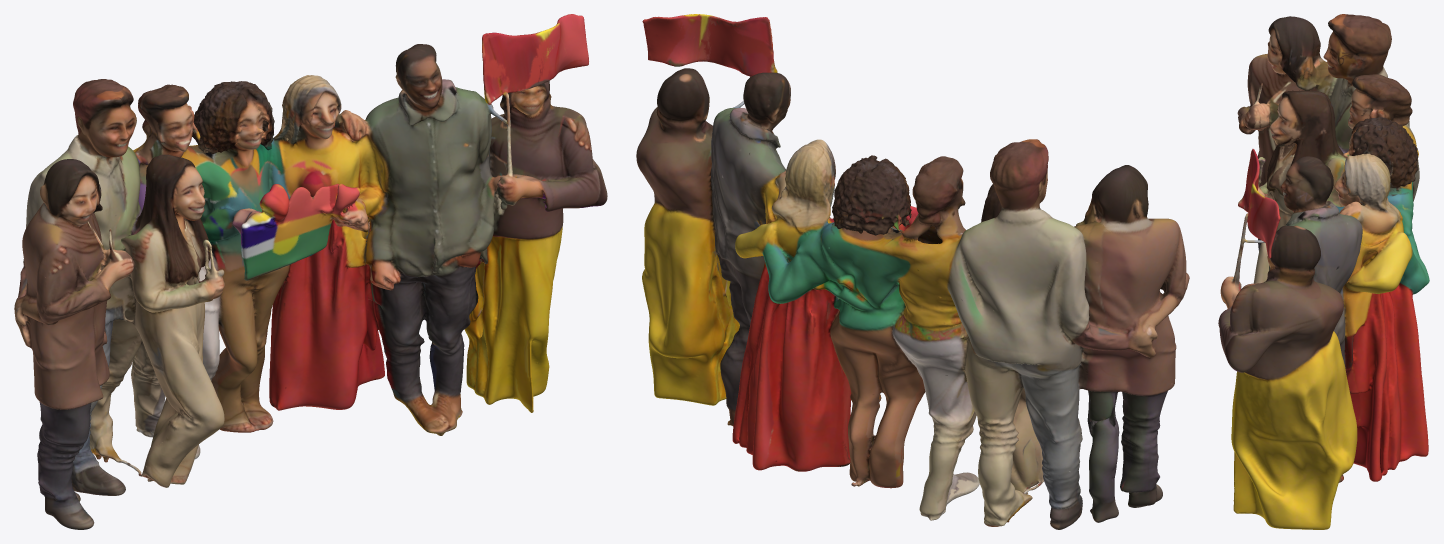
File: citizen.glb
The picture shows the model from 3 angles, left to right: view 1: azimuth 30°, elevation 25°; view 2: azimuth 150°, elevation 25°; view 3: azimuth 270°, elevation 25°; orthographic projection. The views are drawn at different scales.
Bounding box in the file's own units: 65116 × 45472 × 23650.
Materials: 1 (1 with a texture image).
